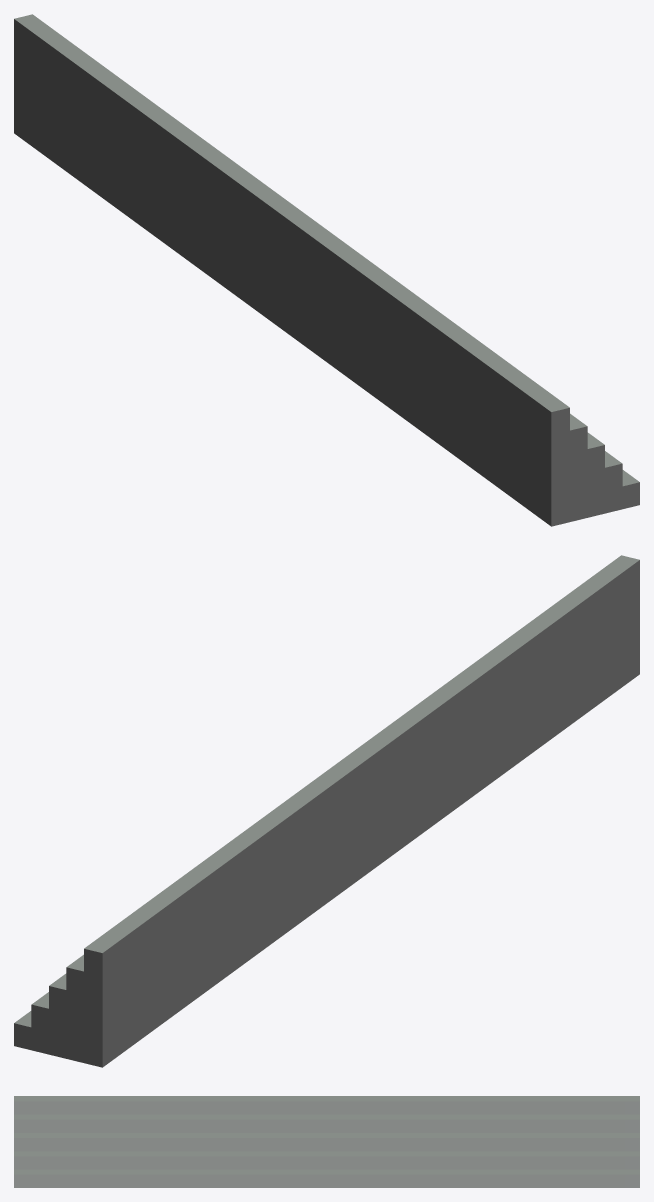
Rendered from field_11.fbx.
3 views of the same model, one above another, from view 1: azimuth 30°, elevation 25°; view 2: azimuth 150°, elevation 25°; view 3: azimuth 270°, elevation 25° (orthographic). The views are drawn at different scales.
Visible parts, largest first — view 1: Field_stairs_02; view 2: Field_stairs_02; view 3: Field_stairs_02.
Boxes of the visible parts, box(x1,y1,x2,y2) form: Field_stairs_02: box(14, 14, 639, 526); Field_stairs_02: box(14, 555, 639, 1067); Field_stairs_02: box(14, 1096, 639, 1187).
Bounding box in the file's own units: 0.5635 × 0.696 × 5.92.
Materials: 1 (1 with a texture image).
